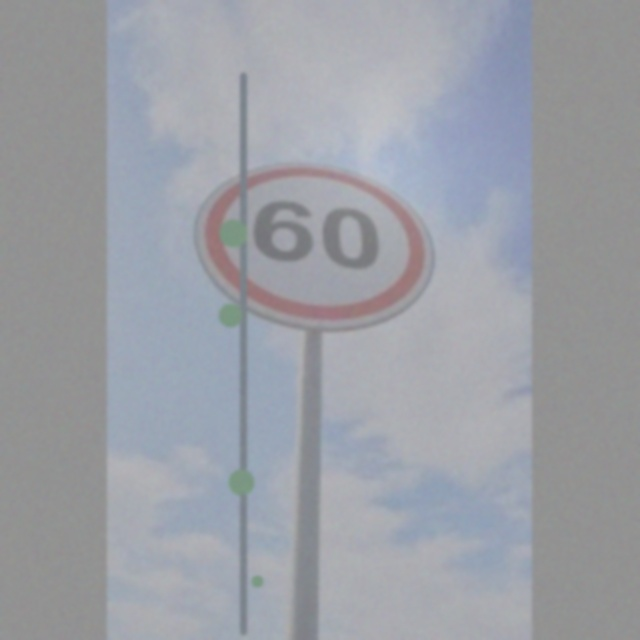Speed_Limit_60: (198, 157, 445, 331)
